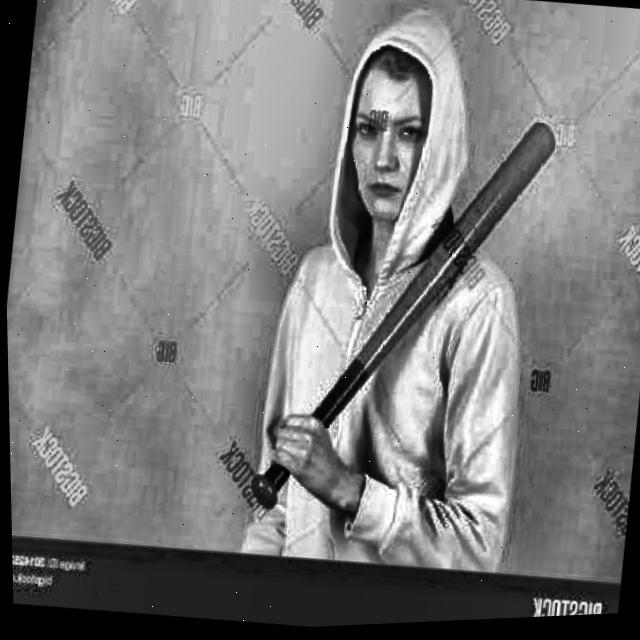tongkat pemukul: (237, 109, 571, 513)
